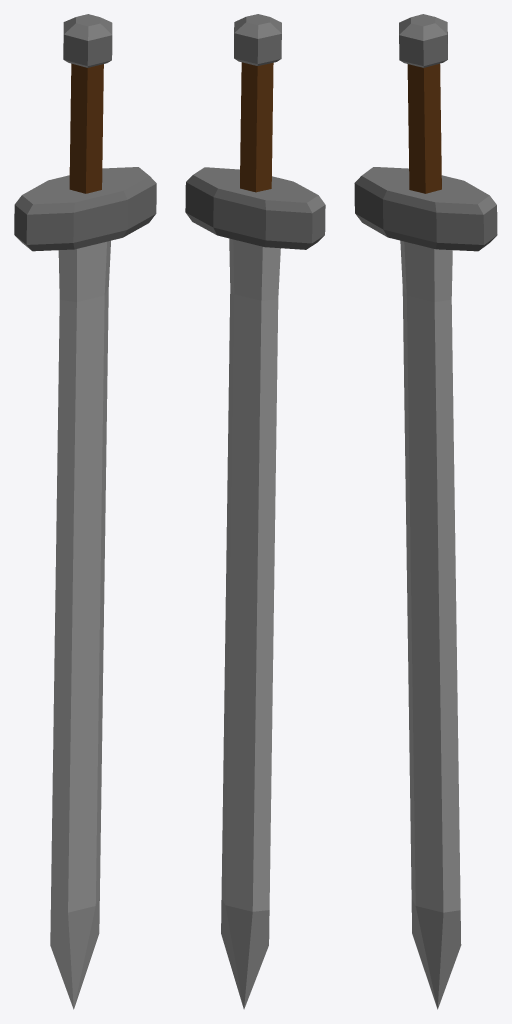
Rendered from Sword.fbx.
3 views of the same model, side by side, from view 1: azimuth 30°, elevation 25°; view 2: azimuth 150°, elevation 25°; view 3: azimuth 330°, elevation 25° (orthographic). The views are drawn at different scales.
Visible parts, largest first — view 1: Cylinder.006; view 2: Cylinder.006; view 3: Cylinder.006.
Part boxes in pixels (left/top/right/bottom): Cylinder.006: left=14, top=14, right=156, bottom=1009; Cylinder.006: left=185, top=14, right=325, bottom=1009; Cylinder.006: left=354, top=14, right=497, bottom=1009.
Bounding box in the file's own units: 72.1 × 31.28 × 531.
